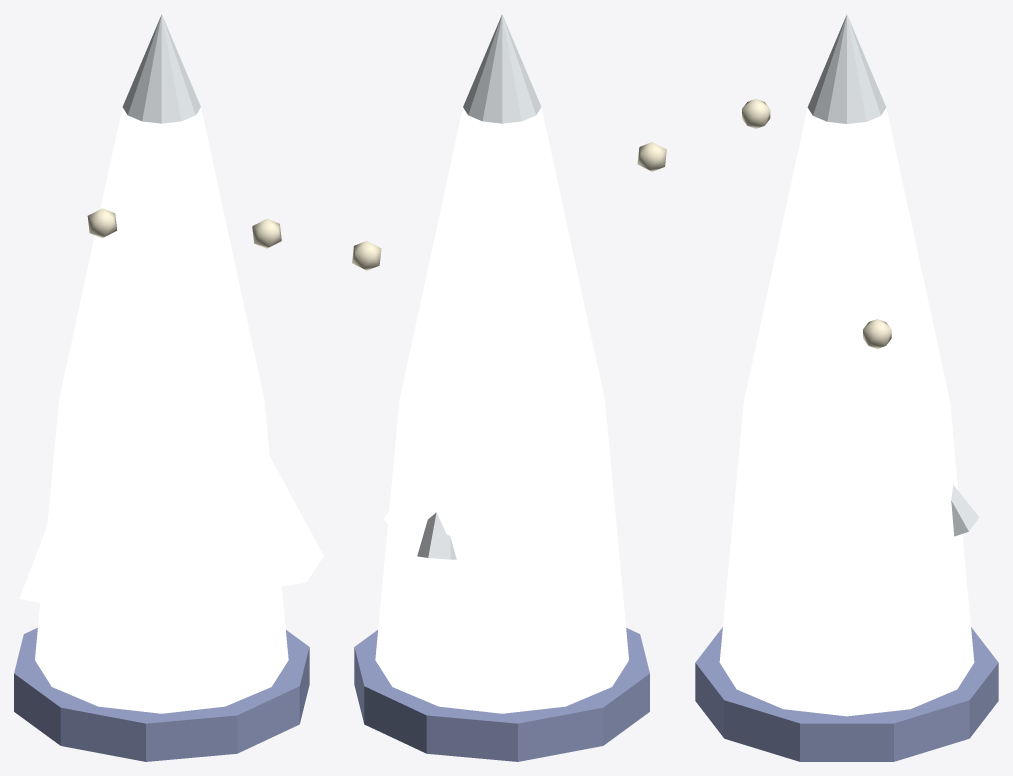
File: OBS_StarFragment_Right.fbx
The picture shows the model from 3 angles, left to right: view 1: azimuth 30°, elevation 25°; view 2: azimuth 150°, elevation 25°; view 3: azimuth 270°, elevation 25°; orthographic projection.
Parts seen in each view (by area): view 1: OBS_StarFragment_Right; view 2: OBS_StarFragment_Right; view 3: OBS_StarFragment_Right.
Part boxes in pixels (x1,y1,x2,y2): OBS_StarFragment_Right: (14, 14, 323, 761); OBS_StarFragment_Right: (352, 14, 666, 761); OBS_StarFragment_Right: (695, 14, 998, 761).
Size of the model in its own units: 0.9847 by 2.5 by 1.
